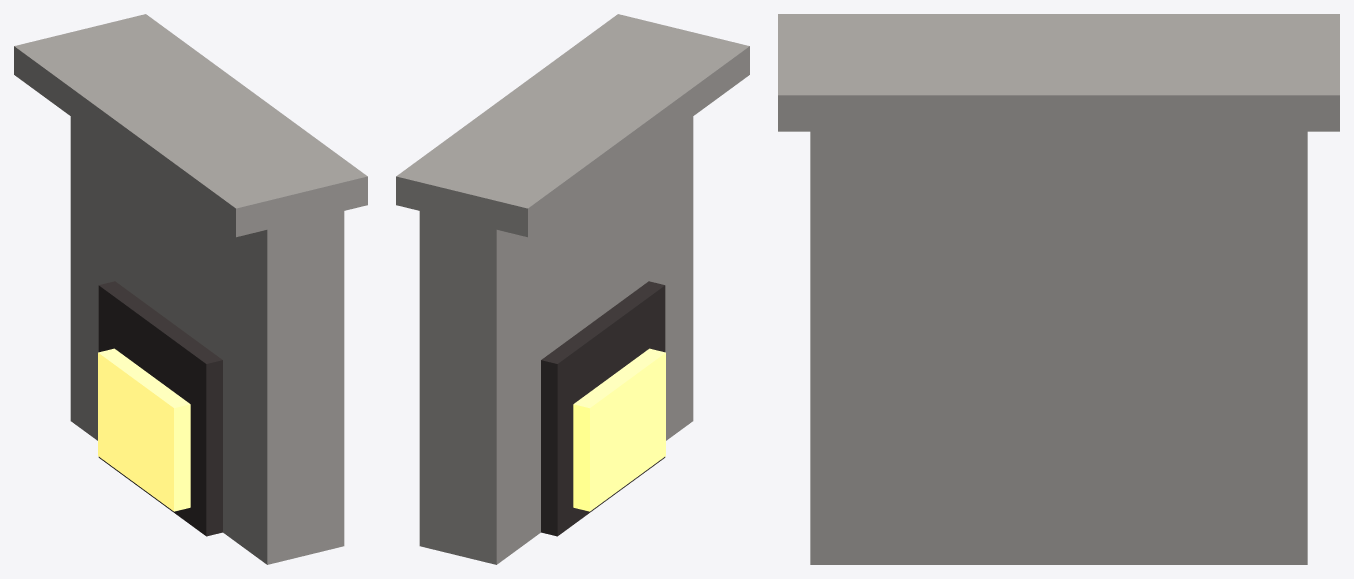
The model's file is Fireplace.glb.
The picture shows the model from 3 angles, left to right: view 1: azimuth 30°, elevation 25°; view 2: azimuth 150°, elevation 25°; view 3: azimuth 270°, elevation 25°; orthographic projection. The views are drawn at different scales.
Visible parts, largest first — view 1: FireSurround, FireMantel, FireBox, FireFlames; view 2: FireSurround, FireMantel, FireBox, FireFlames; view 3: FireSurround, FireMantel.
Boxes of the visible parts, left/top/right/bottom form: FireSurround: left=70, top=116, right=344, bottom=564; FireMantel: left=14, top=14, right=367, bottom=237; FireBox: left=98, top=281, right=222, bottom=536; FireFlames: left=98, top=348, right=190, bottom=511; FireSurround: left=419, top=116, right=693, bottom=564; FireMantel: left=396, top=14, right=749, bottom=237; FireBox: left=541, top=281, right=665, bottom=536; FireFlames: left=573, top=348, right=665, bottom=511; FireSurround: left=810, top=131, right=1307, bottom=564; FireMantel: left=778, top=14, right=1339, bottom=131.
Bounding box in the file's own units: 0.48 × 1.31 × 1.4.
